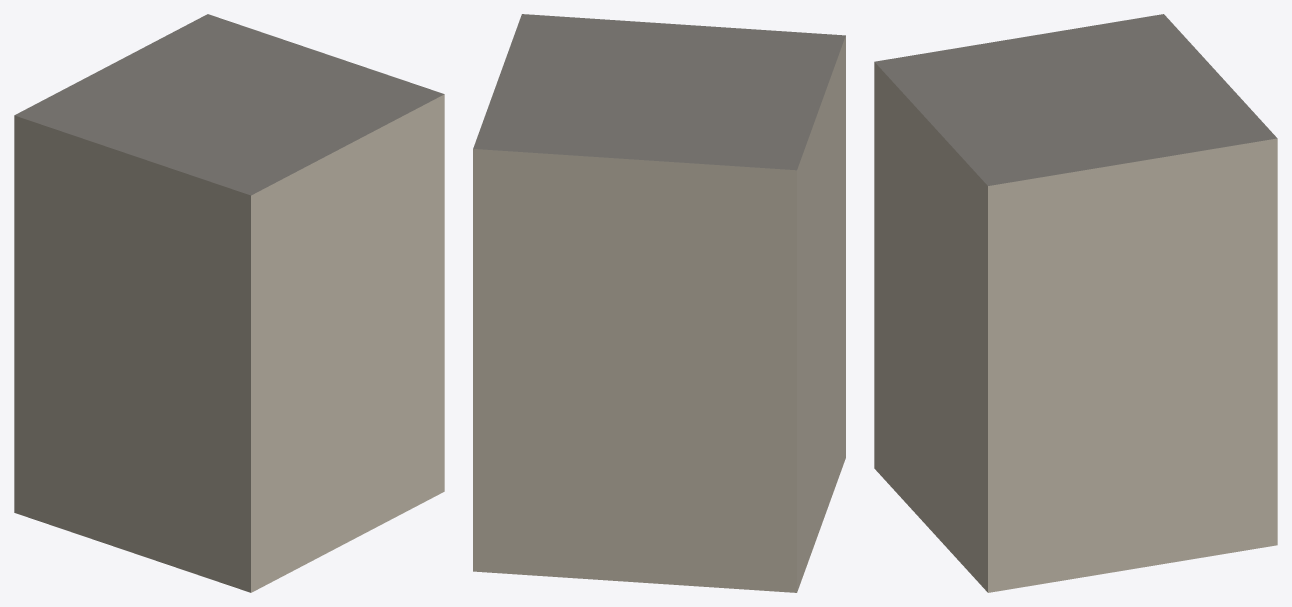
3 renders of one model, left to right at view 1: azimuth 30°, elevation 25°; view 2: azimuth 150°, elevation 25°; view 3: azimuth 270°, elevation 25°, orthographic. The views are drawn at different scales.
Visible parts, largest first — view 1: HP-w505650483; view 2: HP-w505650483; view 3: HP-w505650483.
Boxes of the visible parts, x1,y1,x2,y2 form: HP-w505650483: [14, 14, 444, 592]; HP-w505650483: [473, 14, 845, 592]; HP-w505650483: [874, 14, 1277, 592].
Bounding box in the file's own units: 16.33 × 18 × 16.17.
